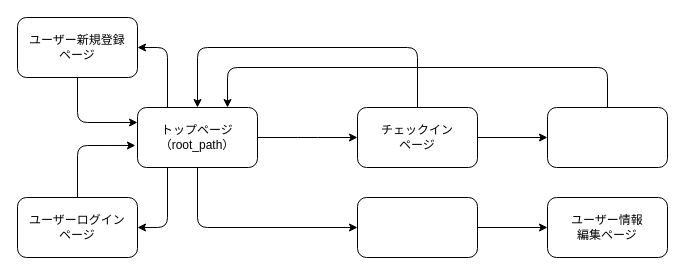
This 685x275 diagram has some shape labels left out. The centre of each missing label's shape, as x and y in pixels:
ユーザー詳細 ページ: [417,227]
日報送信ページ: [607,137]
